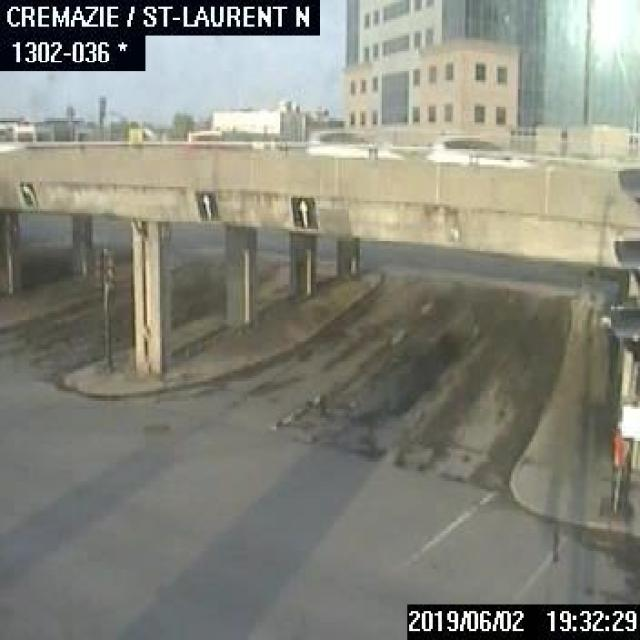vehicle: (304, 124, 394, 160), (428, 131, 528, 163)
